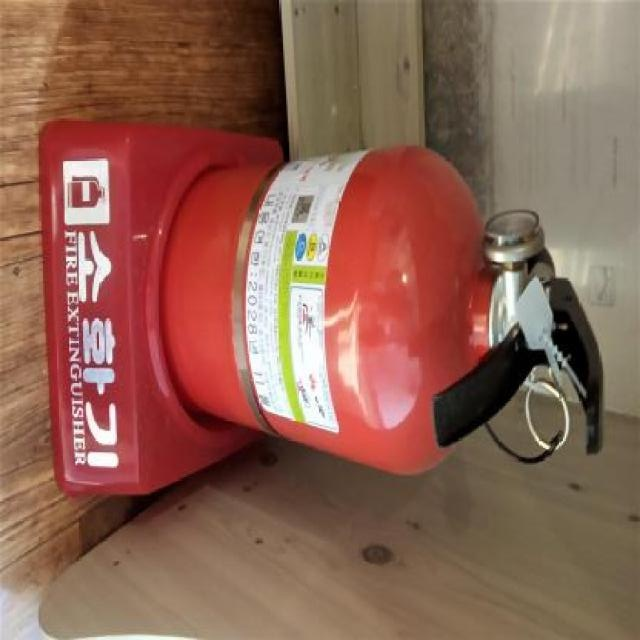fire extinguisher: (159, 143, 605, 475)
